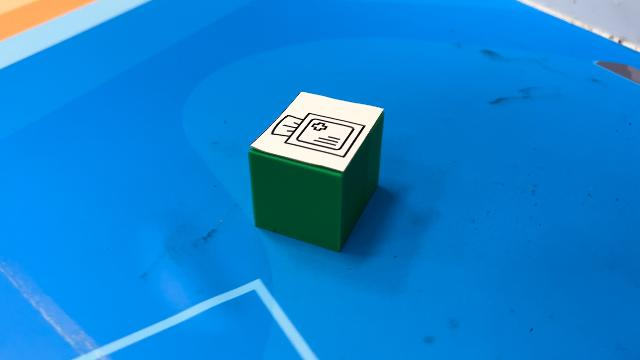napkin: (249, 92, 385, 250)
